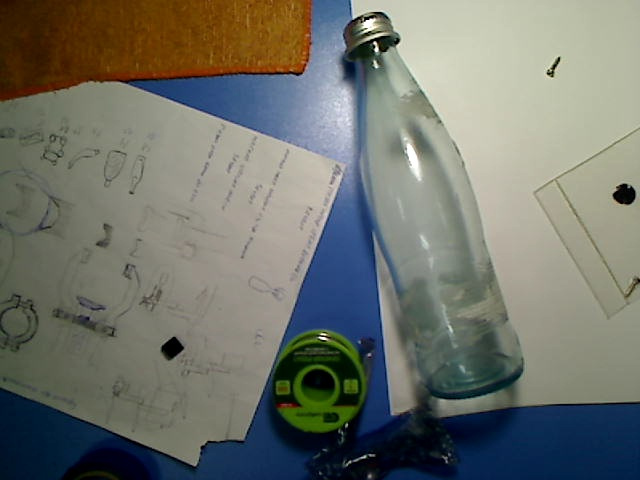bottle: (341, 10, 526, 402)
